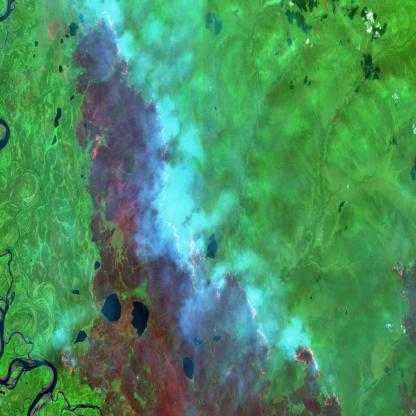fire: (93, 0, 344, 415), (56, 341, 88, 380)
